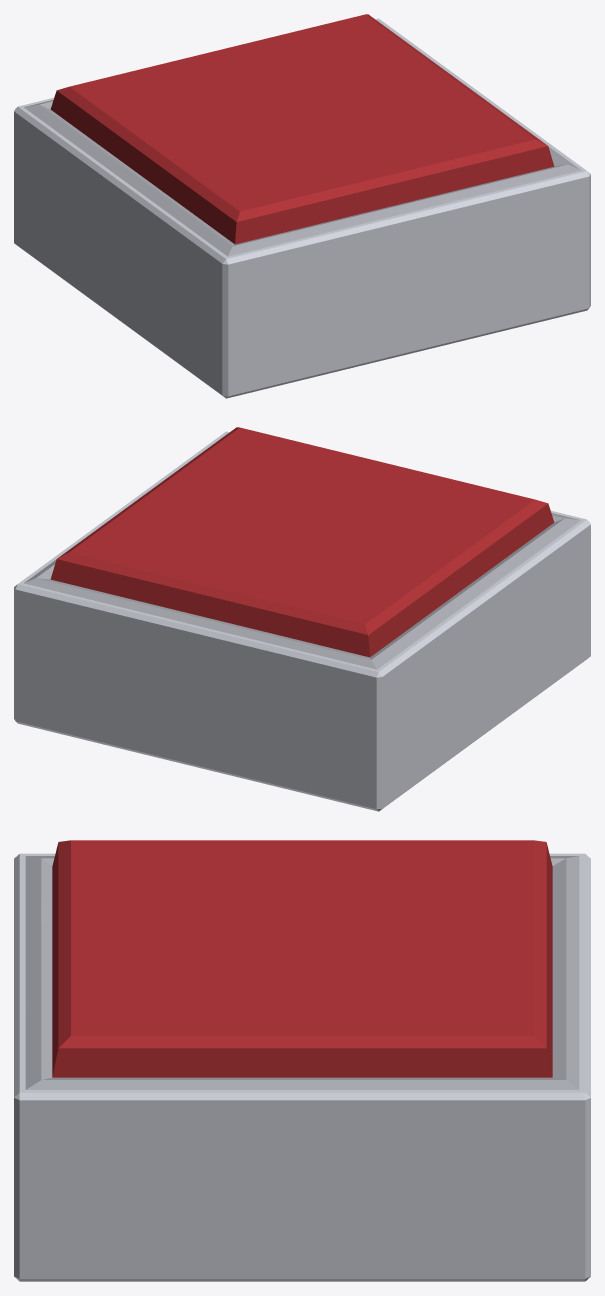
The model's file is Mesh_ButtonTile_01.obj.
3 views of the same model, one above another, from view 1: azimuth 30°, elevation 25°; view 2: azimuth 150°, elevation 25°; view 3: azimuth 270°, elevation 25° (orthographic). The views are drawn at different scales.
Parts seen in each view (by area): view 1: Cube; view 2: Cube; view 3: Cube.
Part boxes in pixels (x1,y1,x2,y2): Cube: (14,14,590,398); Cube: (14,427,590,811); Cube: (14,840,590,1281).
Size of the model in its own units: 2 by 0.8571 by 2.
1 material, 1 textured.
